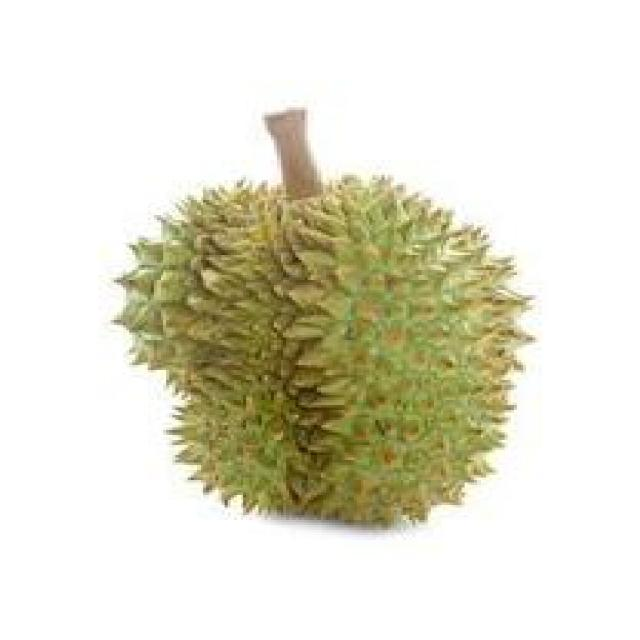fruit: (110, 160, 544, 575)
